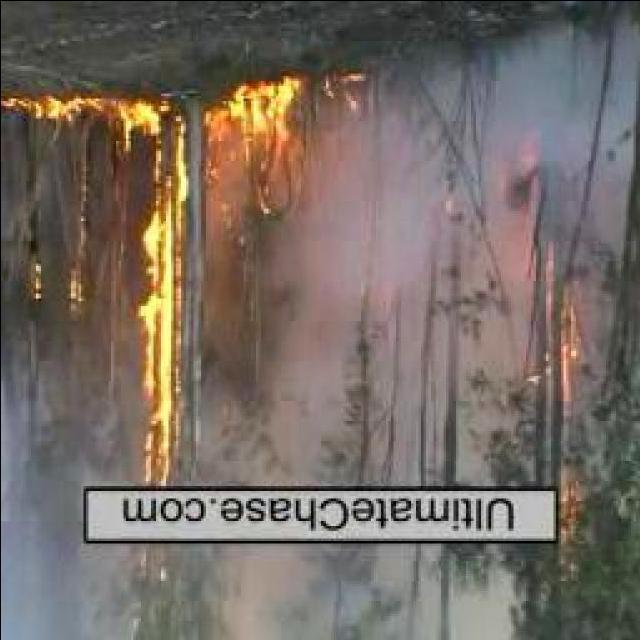Fire: (0, 92, 298, 182), (143, 184, 176, 495), (547, 312, 587, 402), (552, 454, 586, 550), (64, 266, 90, 314), (22, 257, 50, 300)
